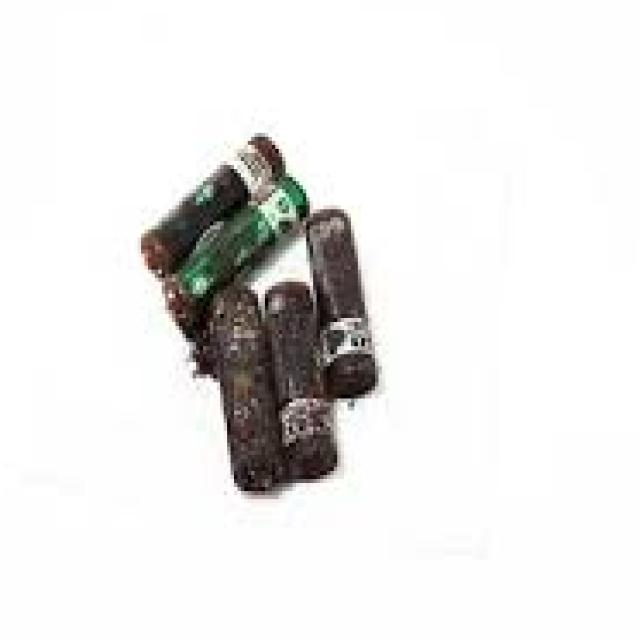organic: (147, 131, 257, 309), (262, 278, 346, 500), (198, 287, 279, 485), (292, 194, 350, 434)
